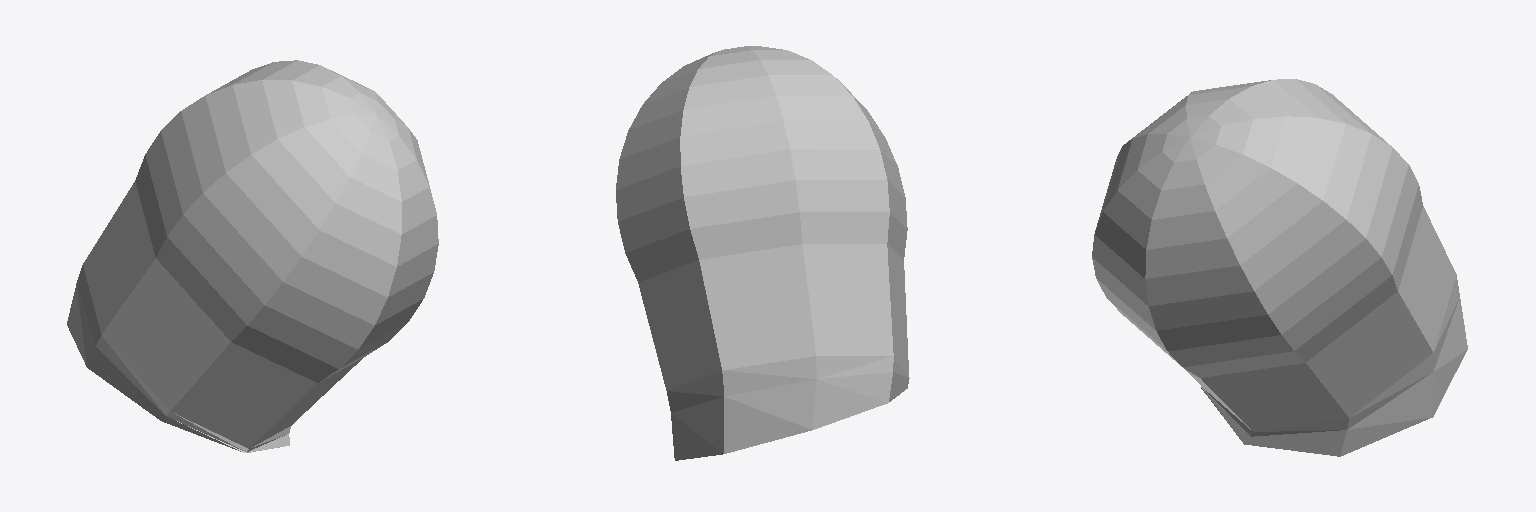
Rendered from Rkata.obj.
The picture shows the model from 3 angles: view 1: azimuth 30°, elevation 25°; view 2: azimuth 150°, elevation 25°; view 3: azimuth 270°, elevation 25°; orthographic projection.
Parts seen in each view (by area): view 1: 球.002; view 2: 球.002; view 3: 球.002.
Part boxes in pixels (x1,y1,x2,y2): 球.002: (67,60,438,452); 球.002: (616,46,909,460); 球.002: (1092,79,1467,456).
Size of the model in its own units: 0.9271 by 1.1 by 1.04.